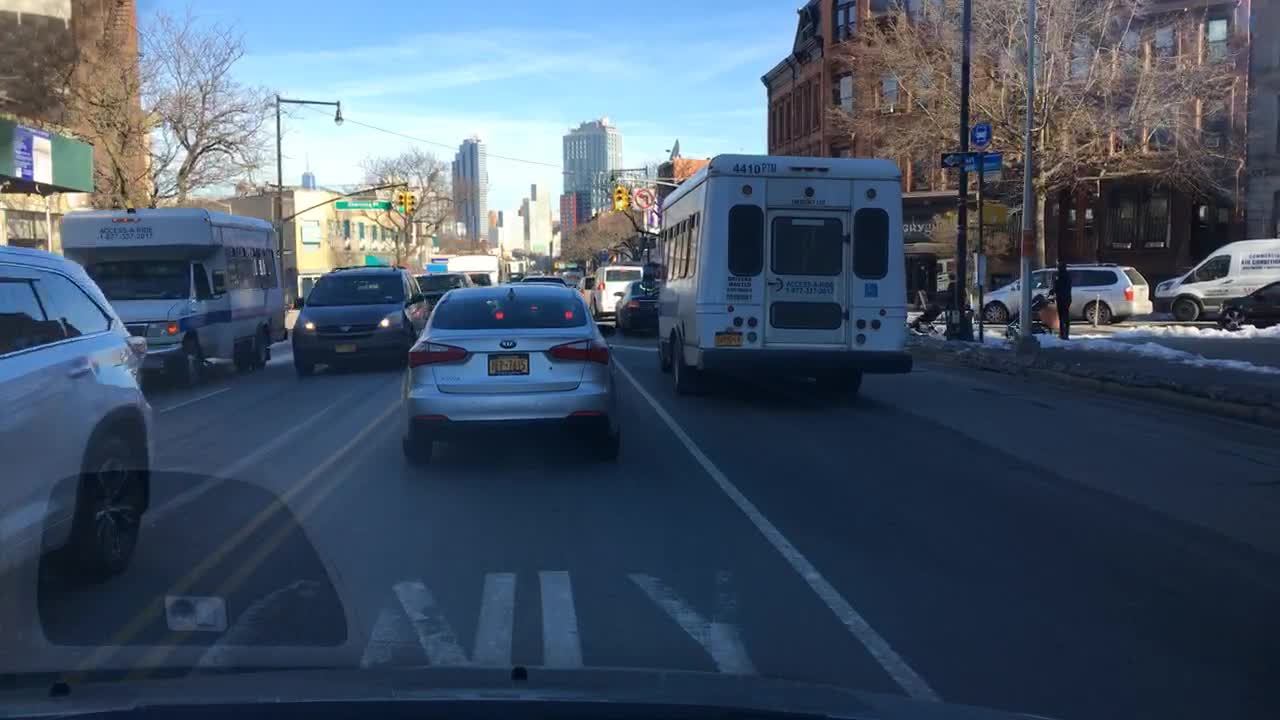bus: (636, 153, 911, 395), (593, 266, 642, 320), (735, 229, 754, 233)
car: (0, 245, 157, 580), (401, 280, 624, 461), (292, 265, 427, 374), (1151, 238, 1279, 322), (978, 263, 1152, 324), (610, 276, 660, 338), (1218, 282, 1279, 332), (418, 273, 469, 305), (578, 273, 597, 303), (523, 274, 566, 284), (563, 267, 585, 284)
person: (1046, 251, 1073, 341), (943, 273, 957, 310)
traffic light: (610, 184, 624, 208), (396, 190, 406, 212), (408, 189, 416, 214)
traffic sign: (334, 198, 393, 213), (968, 120, 992, 147), (629, 186, 656, 209), (939, 152, 977, 165), (985, 153, 1007, 172), (961, 155, 978, 174), (276, 248, 295, 255)
truck: (57, 199, 285, 388), (427, 253, 498, 285)
